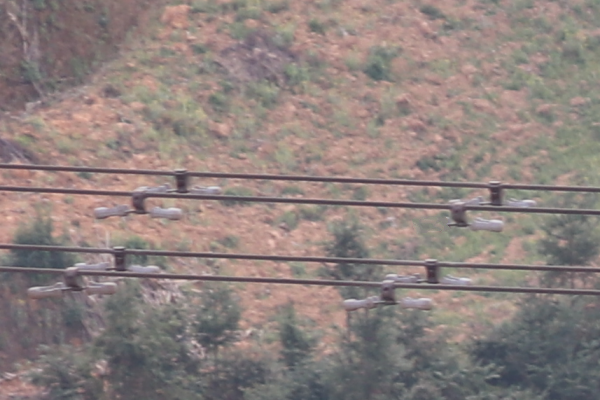damper: (340, 278, 437, 313), (25, 265, 119, 300), (91, 187, 184, 221), (71, 242, 162, 276), (450, 173, 539, 207), (382, 253, 475, 285), (138, 165, 225, 194)
damper_defect: (438, 197, 506, 233)
